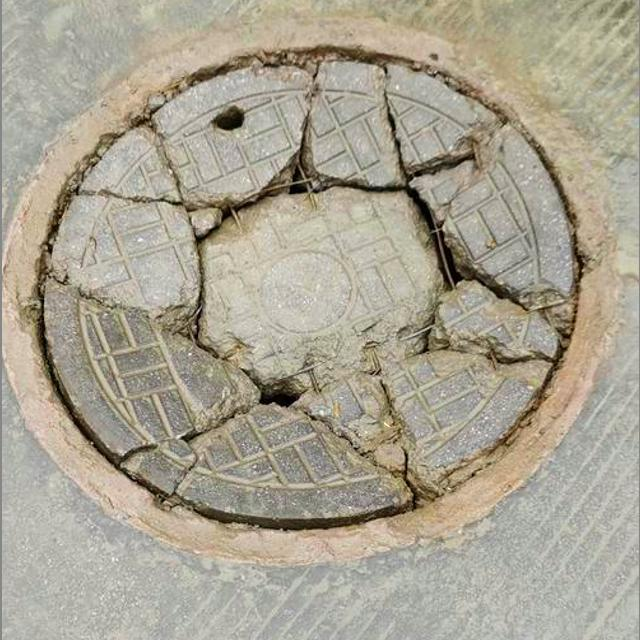broke: (14, 13, 608, 549)
